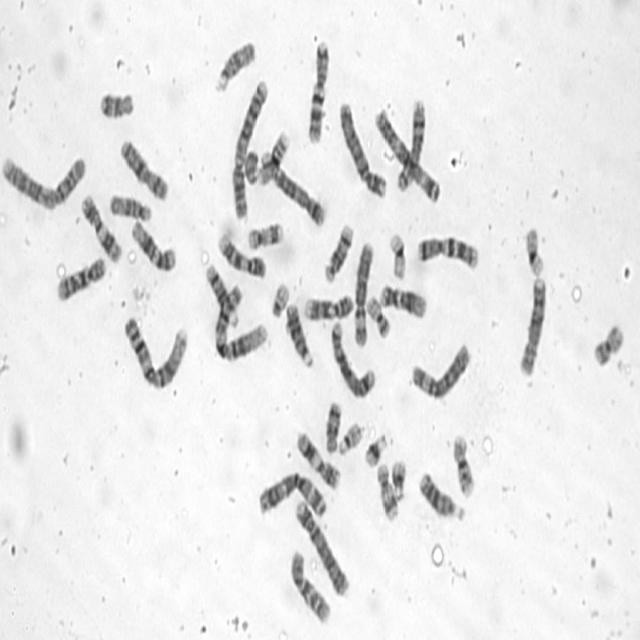A1: (121, 312, 189, 391), (212, 281, 270, 363)
A2: (228, 77, 268, 220), (0, 148, 89, 212)
A3: (371, 102, 441, 205), (255, 468, 329, 520)
B4: (293, 495, 351, 599), (337, 98, 388, 200)
B5: (257, 146, 327, 228), (329, 317, 377, 401)
C10: (286, 546, 332, 626), (52, 253, 108, 304)
C11: (78, 190, 123, 265), (294, 428, 342, 492)
C12: (129, 216, 177, 274), (378, 280, 428, 320)
C6: (409, 339, 471, 403), (351, 238, 375, 348)
C7: (305, 36, 331, 148), (413, 231, 480, 272)
C8: (394, 94, 427, 195), (516, 273, 548, 377)
C9: (215, 229, 267, 281), (302, 289, 354, 322)
D13: (417, 467, 465, 523), (283, 299, 315, 371)
D14: (202, 258, 240, 330), (321, 220, 355, 284)
D15: (212, 37, 256, 94), (107, 190, 153, 223)
E16: (254, 125, 290, 187), (450, 429, 476, 500)
E17: (375, 459, 400, 524), (245, 218, 285, 252)
E18: (98, 86, 134, 121), (322, 396, 342, 456)
F19: (523, 224, 545, 278), (388, 230, 408, 281)
F20: (592, 319, 626, 368), (364, 292, 392, 340)
G21: (362, 429, 388, 469), (390, 454, 408, 500)
G22: (336, 418, 365, 458), (268, 278, 290, 319)
X: (118, 136, 170, 202)
